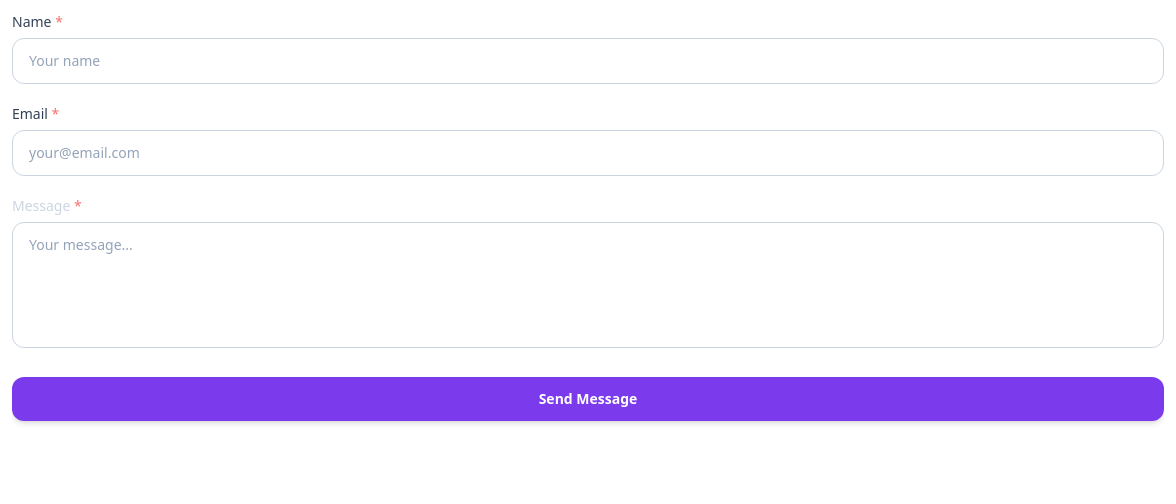
Contact form end-to-end integration › shows error message with mailto fallback when EmailJS fails
Type "Anmol" into the field labelled "Name *" at coordinates (588, 61), box [12, 38, 1164, 84]
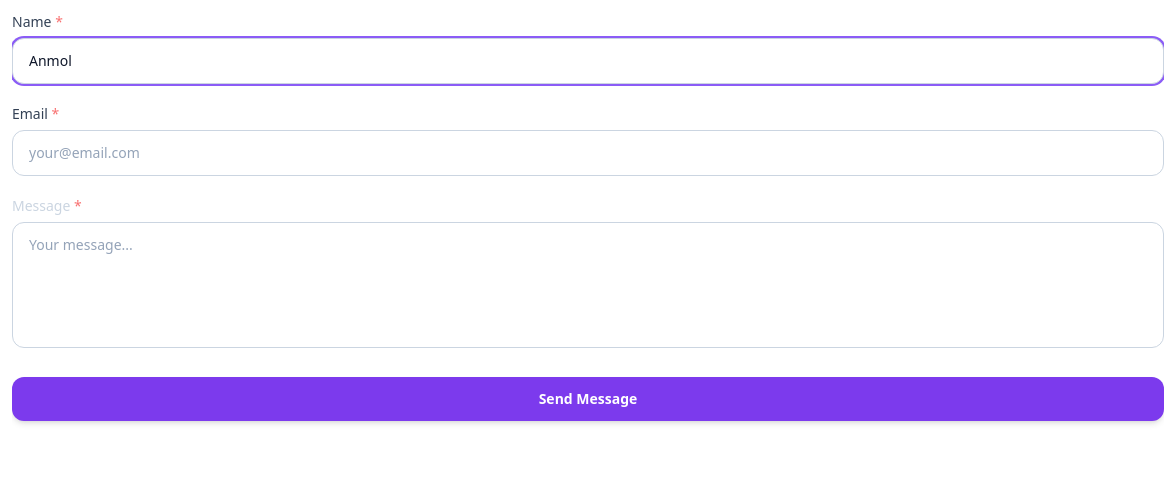
Type "anmol@example.com" into the field labelled "Email *" at coordinates (588, 153), box [12, 130, 1164, 176]
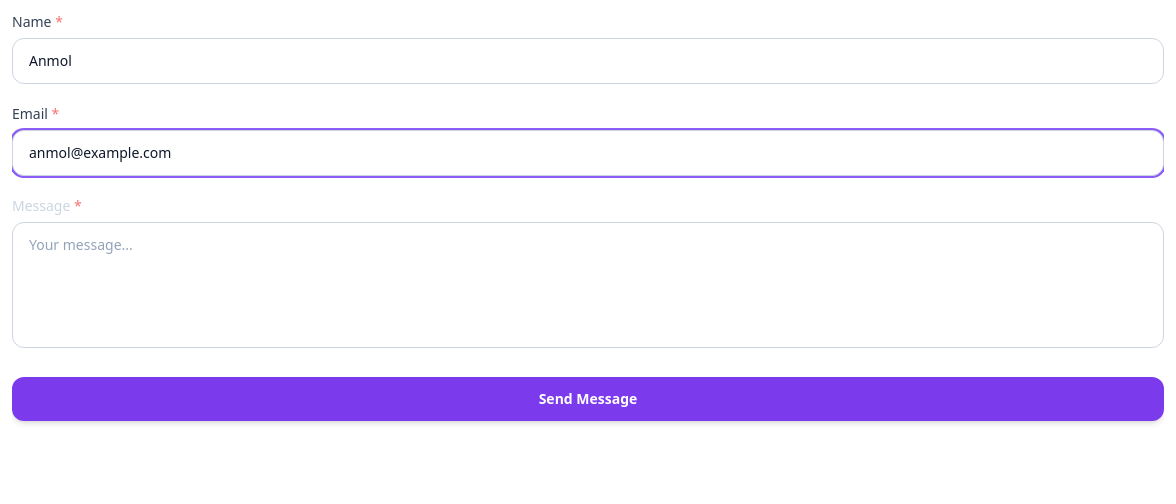
Type "Hello" into the text box labelled "Message *" at coordinates (588, 285), box [12, 222, 1164, 348]
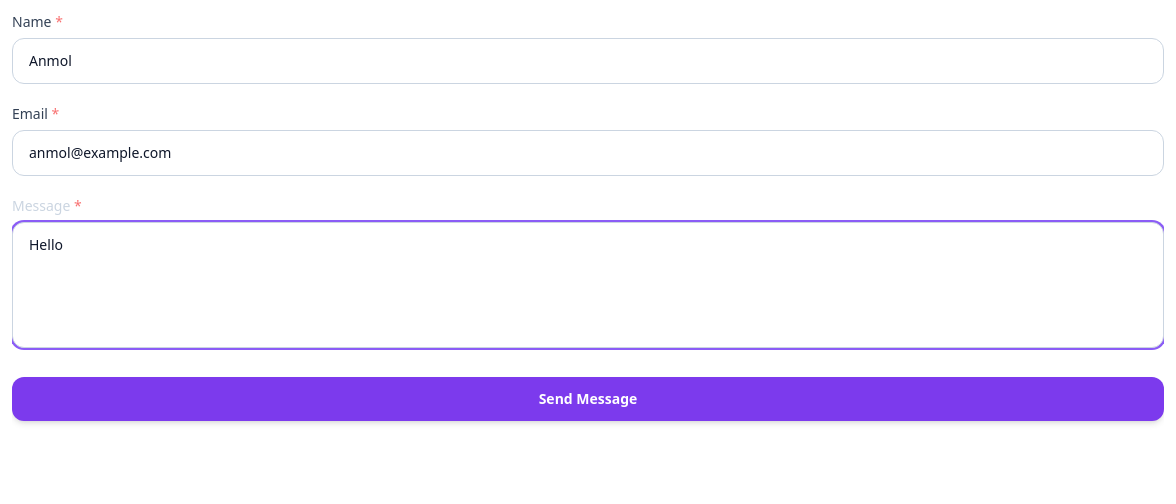
Click the button "Send Message" at coordinates (588, 399), box [12, 377, 1164, 421]
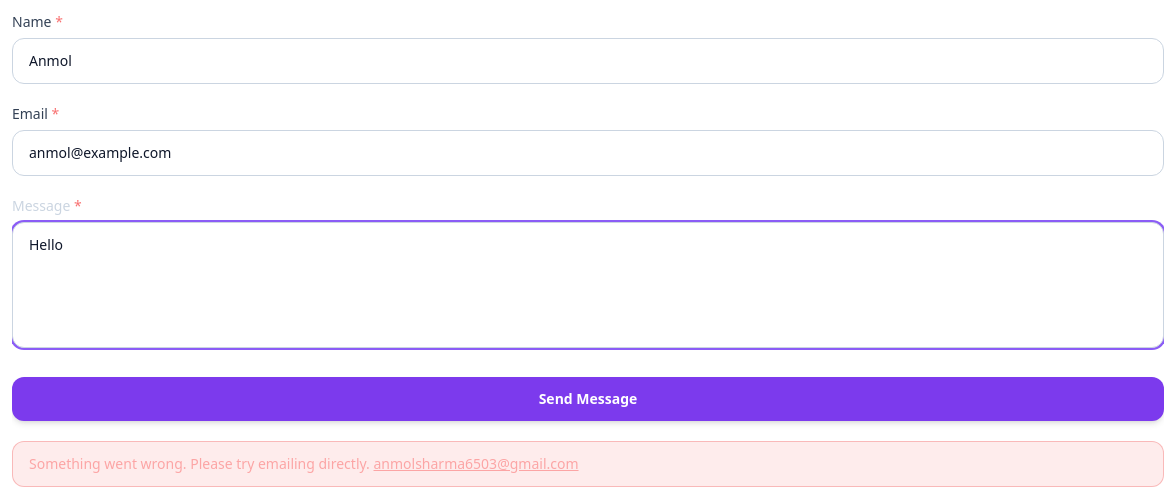
Check: the text "Something went wrong. Please try emailing directly. anmolsharma6503@gmail.com" is shown, box [12, 441, 1164, 487]
Check: the link "anmolsharma6503@gmail.com" is shown, box [374, 454, 578, 473]
